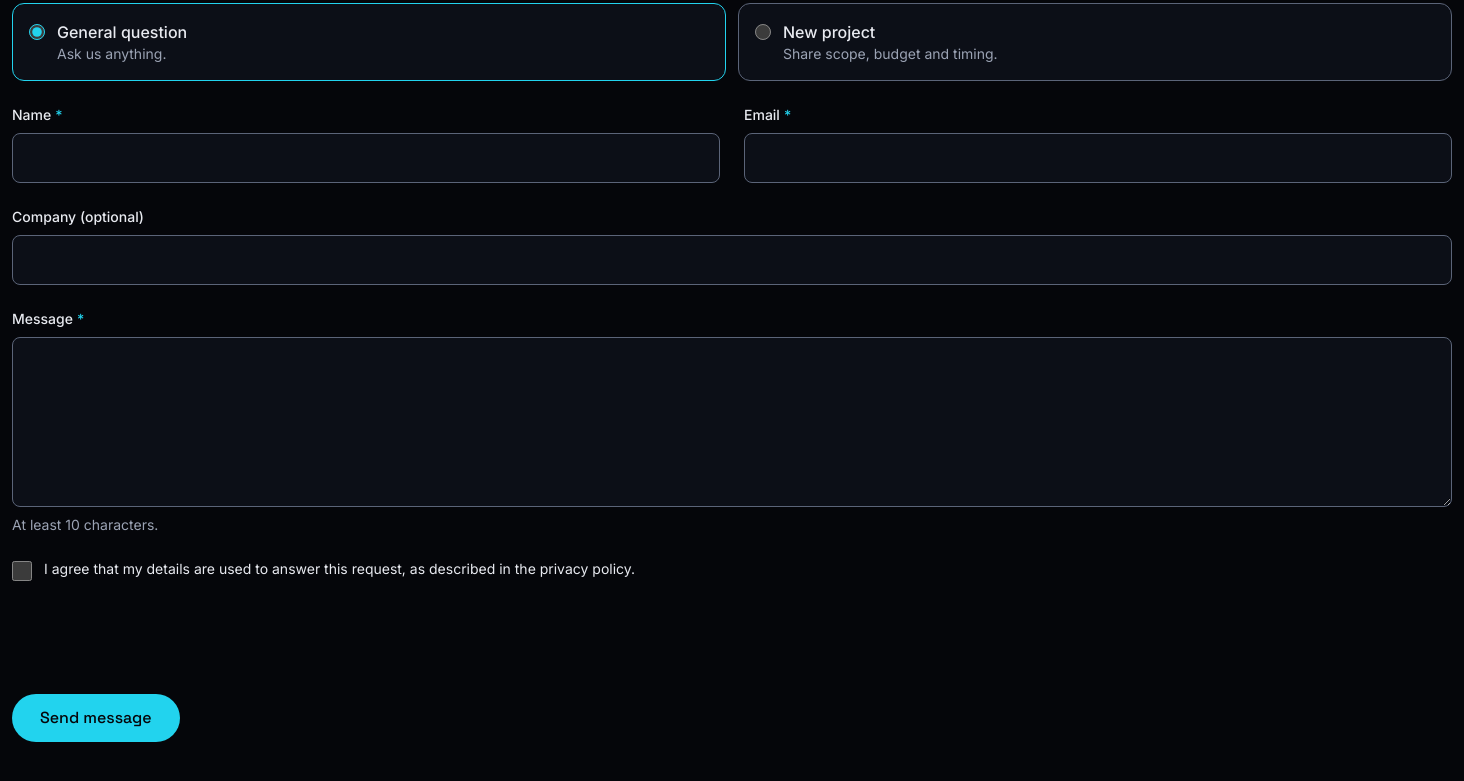
Test: ContactForm › shows service, budget and timeline only for project inquiries
Expected: the field labelled "Service" is not shown
Click the radio button labelled "New project Share scope, budget and timing." at (763, 32), box 755,24 -> 771,40
(page scrolled)
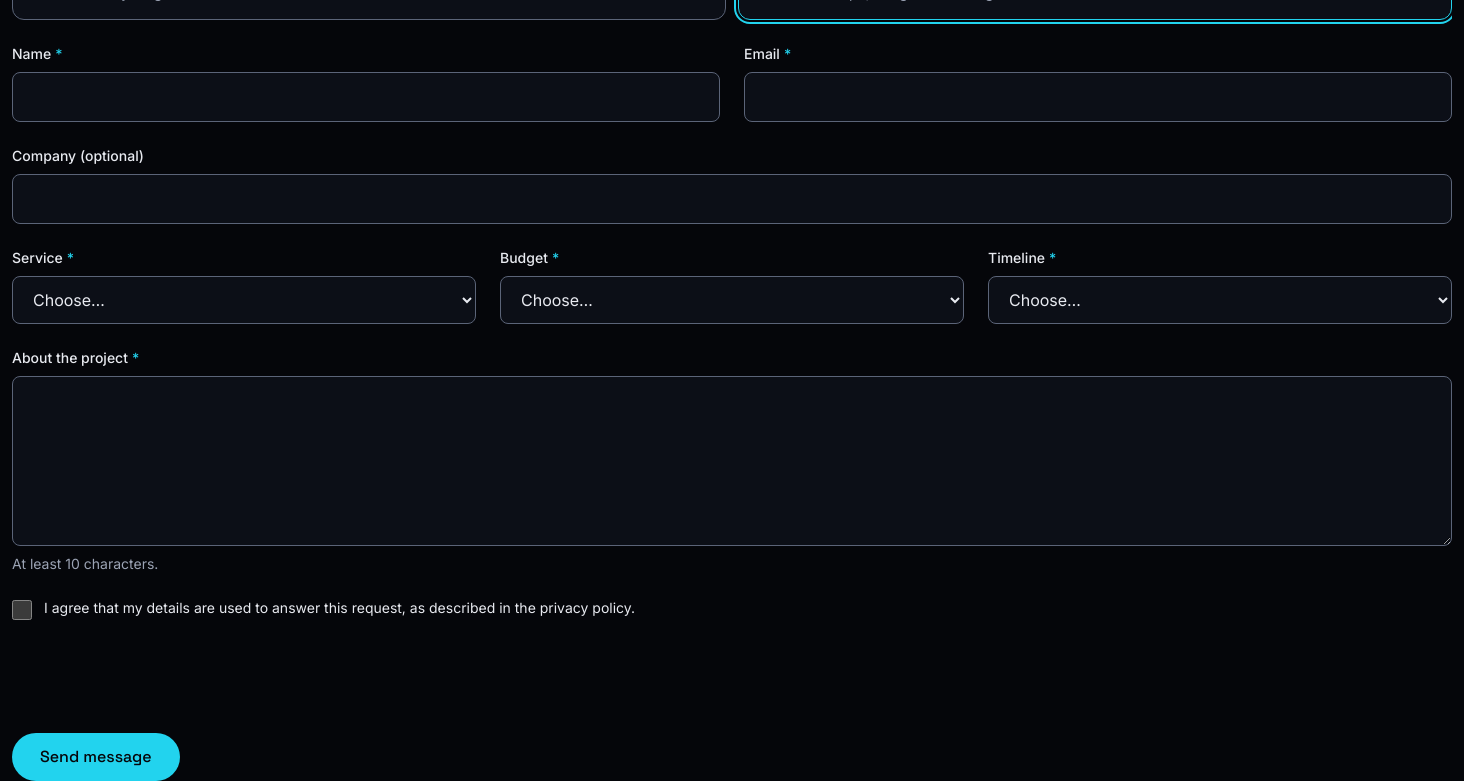
Now the dropdown labelled "Service*" is shown, box 12,276 -> 476,324
Now the dropdown labelled "Budget*" is shown, box 500,276 -> 964,324
Now the dropdown labelled "Timeline*" is shown, box 988,276 -> 1452,324
Click the button "Send message" at (96, 757), box 12,733 -> 180,780
(page scrolled)
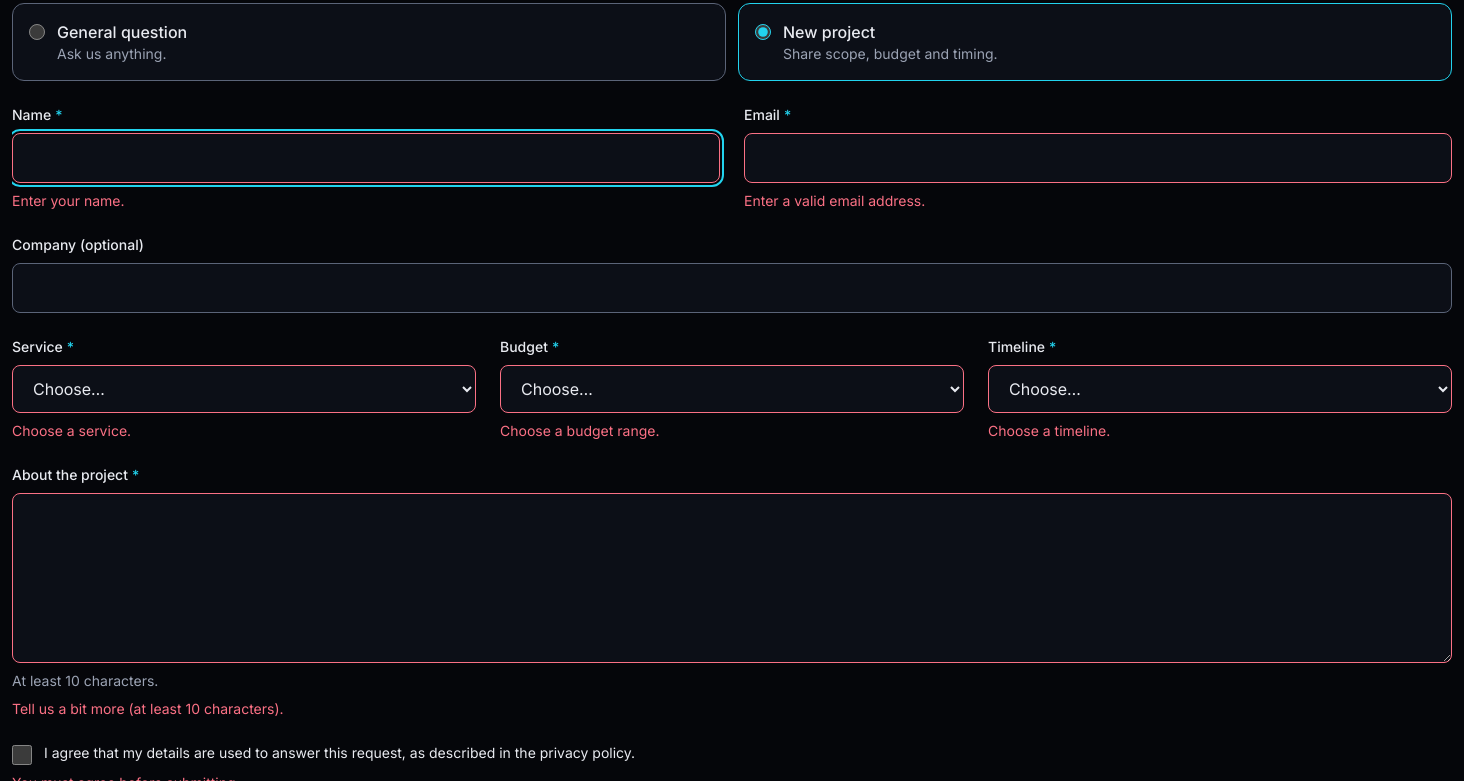
Now the text "Choose a service." is shown, box 12,422 -> 131,439
Now the text "Choose a budget range." is shown, box 500,422 -> 660,439
Now the text "Choose a timeline." is shown, box 988,422 -> 1110,439
Click the radio button labelled "General question Ask us anything." at (37, 32), box 29,24 -> 45,40
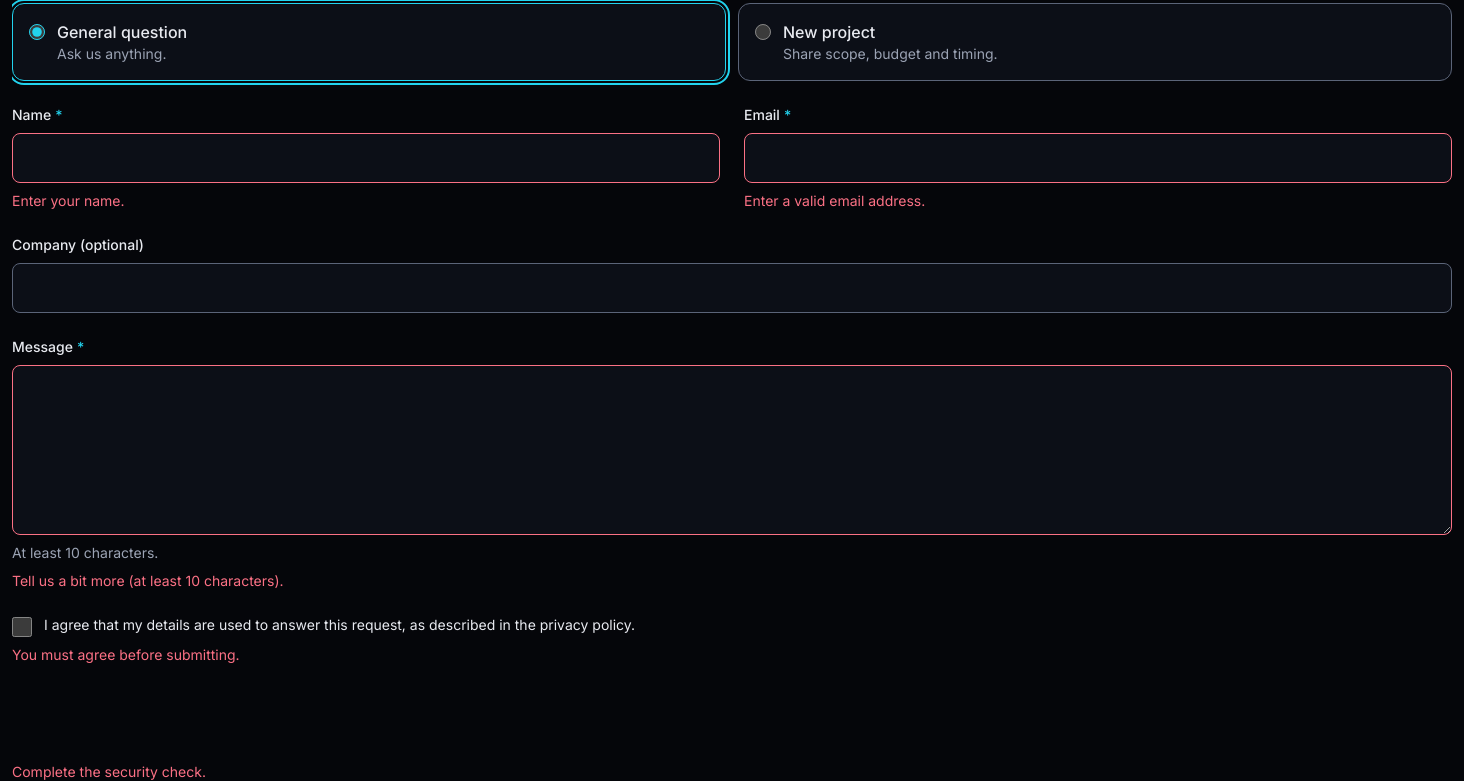
Now the label labelled "Service" is gone
